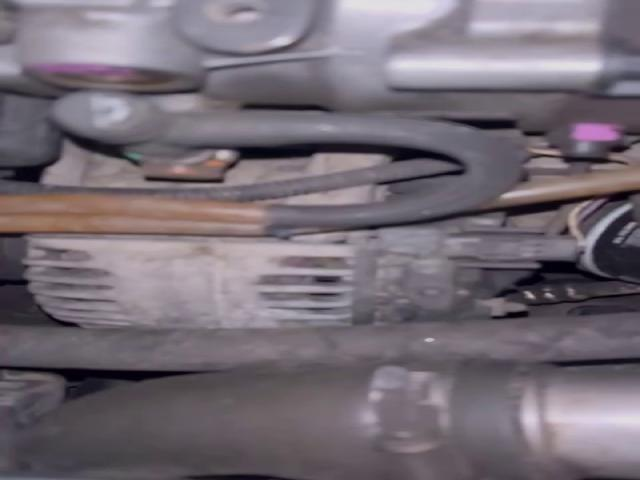alternator: (24, 214, 576, 331)
